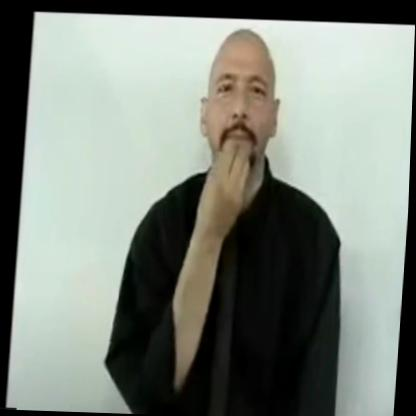Food: (180, 18, 316, 261)
